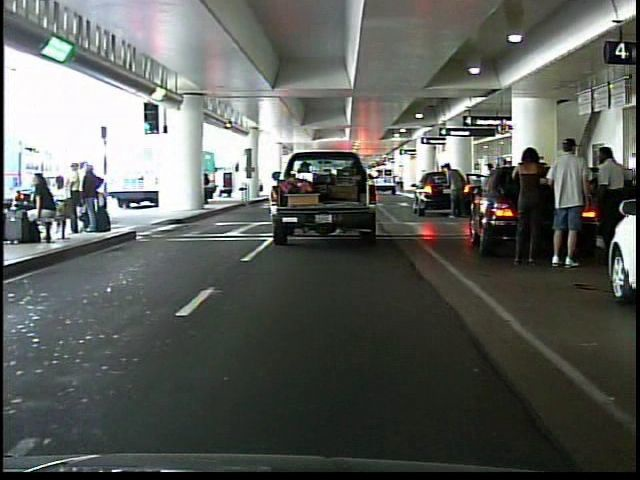person: (506, 137, 550, 274), (546, 137, 590, 268), (590, 140, 629, 276), (442, 157, 468, 227)
